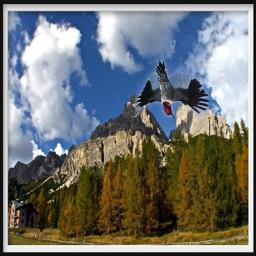Woodpecker: (135, 60, 209, 118)
